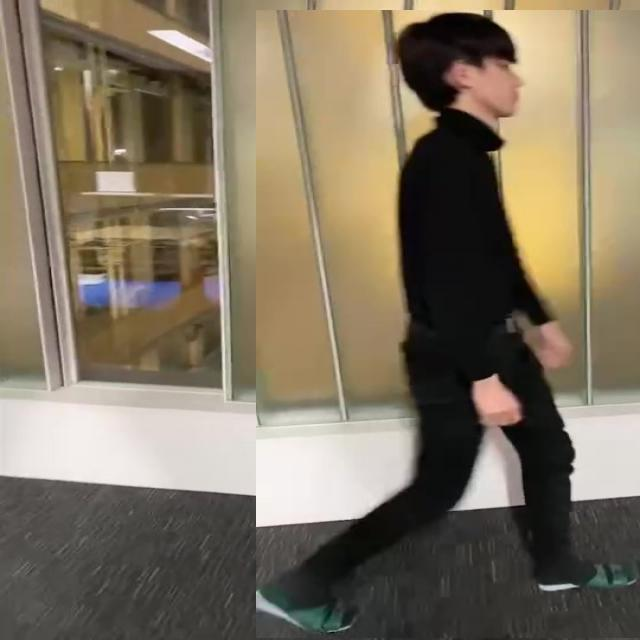direk: (256, 10, 640, 638)
